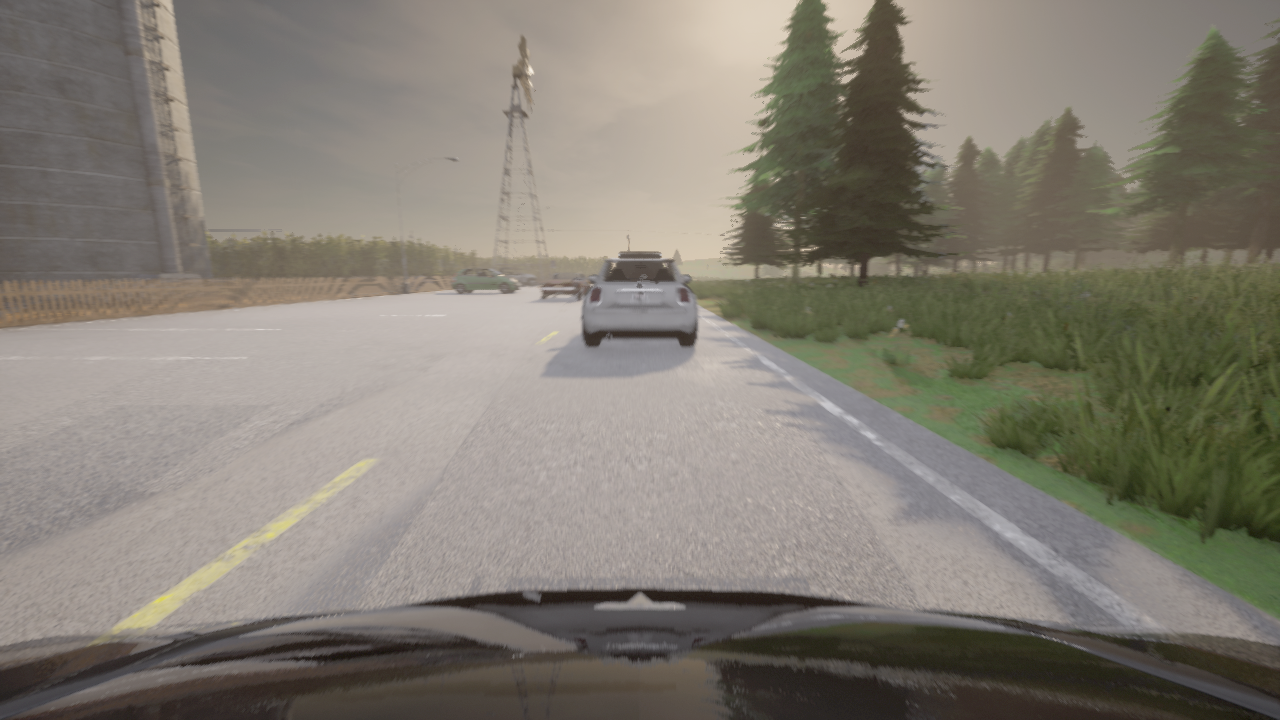cyclist: (0, 588, 1279, 719), (582, 258, 697, 347), (452, 267, 520, 293), (540, 272, 590, 299), (498, 267, 538, 285), (619, 252, 660, 257)
